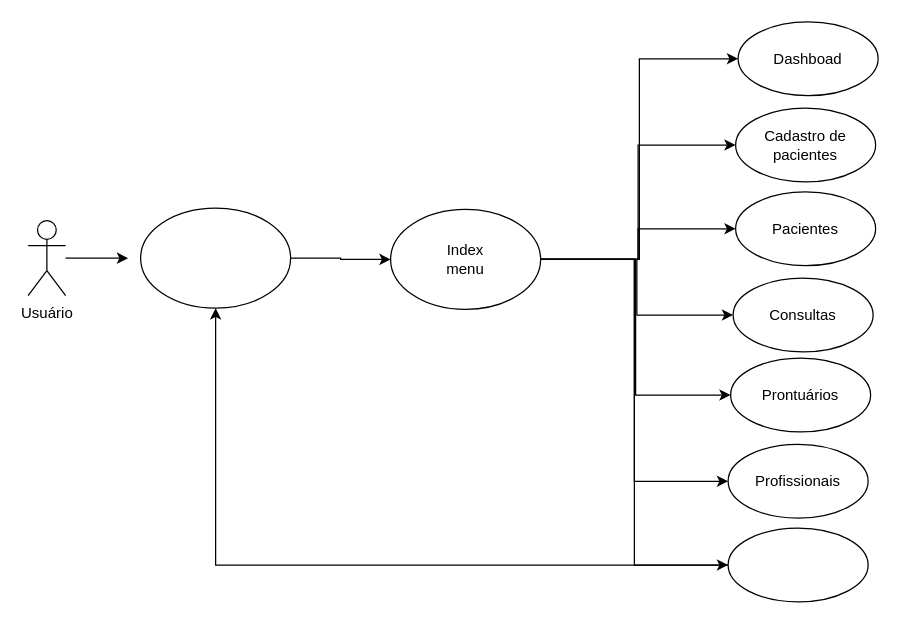
The diagram is 900 pixels wide and 624 high, and some of its shapes have lost their labels. Here are the shapes that lost their labels. From the top down, the box of each, then its label:
(139, 207, 291, 308): Login
(727, 527, 868, 602): Sair
